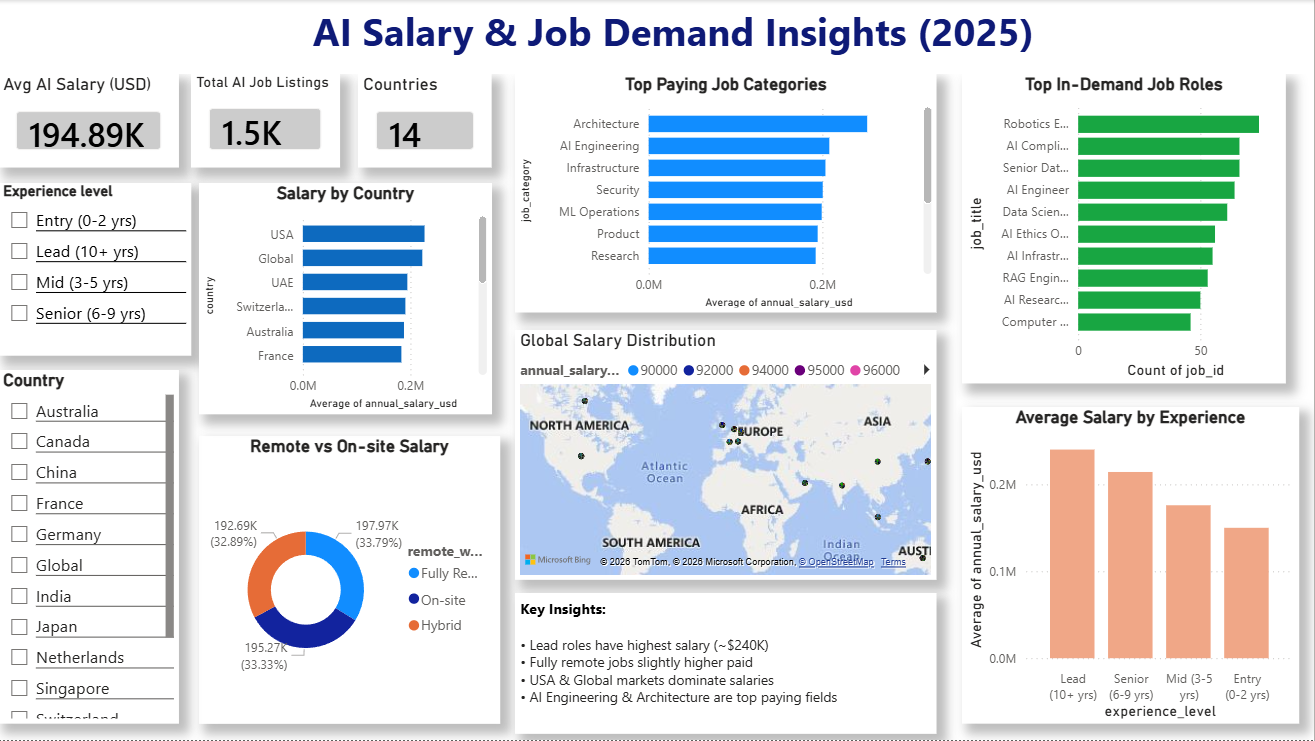

This screenshot's page, from the dashboard's own definition file:
{"tool":"powerbi","page":{"name":"Page 1","canvas":[1280,720],"ordinal":0},"visuals":[{"type":"barChart","title":"Top Paying Job Categories","fields":{"Y":["Avg(ai_jobs_market_2025_2026.annual_salary_usd)"],"Category":["ai_jobs_market_2025_2026.job_category"]},"box":[502.9,72,410.5,232.5],"z":0},{"type":"columnChart","title":"Average Salary by Experience","fields":{"Category":["ai_jobs_market_2025_2026.experience_level"],"Y":["Avg(ai_jobs_market_2025_2026.annual_salary_usd)"]},"box":[937.6,395.9,327.8,308.3],"z":1000},{"type":"barChart","title":"Top In-Demand Job Roles","fields":{"Y":["CountNonNull(ai_jobs_market_2025_2026.job_id)"],"Category":["ai_jobs_market_2025_2026.job_title"]},"box":[937.6,72,315.1,300.5],"z":2000},{"type":"donutChart","title":"Remote vs On-site Salary","fields":{"Y":["Avg(ai_jobs_market_2025_2026.annual_salary_usd)"],"Category":["ai_jobs_market_2025_2026.remote_work"]},"box":[195.5,424.1,292.8,280.1],"z":3000},{"type":"cardVisual","title":"Avg AI Salary (USD)","fields":{"Data":["Avg(ai_jobs_market_2025_2026.annual_salary_usd)"]},"box":[0,72,176,91.4],"z":4000},{"type":"cardVisual","title":"Total AI Job Listings","fields":{"Data":["CountNonNull(ai_jobs_market_2025_2026.job_title)"]},"box":[187.7,72,144.9,91.4],"z":5000},{"type":"cardVisual","title":"Countries","fields":{"Data":["Count(ai_jobs_market_2025_2026.country)"]},"box":[350.2,72,130.3,91.4],"z":6000},{"type":"slicer","title":"Experience level","fields":{"Values":["ai_jobs_market_2025_2026.experience_level"]},"box":[0,178,187.7,168.3],"z":7000},{"type":"slicer","title":"Country","fields":{"Values":["ai_jobs_market_2025_2026.country"]},"box":[0,359.9,176,344.3],"z":8000},{"type":"textbox","box":[0,0,1280,72],"z":9000},{"type":"map","title":"Global Salary Distribution","fields":{"Category":["ai_jobs_market_2025_2026.country"],"Series":["ai_jobs_market_2025_2026.annual_salary_usd"]},"box":[502.9,321,410.5,243.2],"z":10000},{"type":"barChart","title":"Salary by Country","fields":{"Category":["ai_jobs_market_2025_2026.country"],"Y":["Avg(ai_jobs_market_2025_2026.annual_salary_usd)"]},"box":[195.5,178,285,224.7],"z":10001},{"type":"textbox","box":[502.9,576.8,410.5,137.1],"z":10002}]}

Visuals, with their boxes in screenshot pixels (x1, y1, x2, y2), scaled from the page's 1280x720 canvas onto the 1315x741 screenshot:
"Top Paying Job Categories" barChart: 517 74 938 313
"Average Salary by Experience" columnChart: 963 407 1300 725
"Top In-Demand Job Roles" barChart: 963 74 1287 383
"Remote vs On-site Salary" donutChart: 201 436 502 725
"Avg AI Salary (USD)" cardVisual: 0 74 181 168
"Total AI Job Listings" cardVisual: 193 74 342 168
"Countries" cardVisual: 360 74 494 168
"Experience level" slicer: 0 183 193 356
"Country" slicer: 0 370 181 725
textbox: 0 0 1314 74
"Global Salary Distribution" map: 517 330 938 581
"Salary by Country" barChart: 201 183 494 414
textbox: 517 594 938 735
